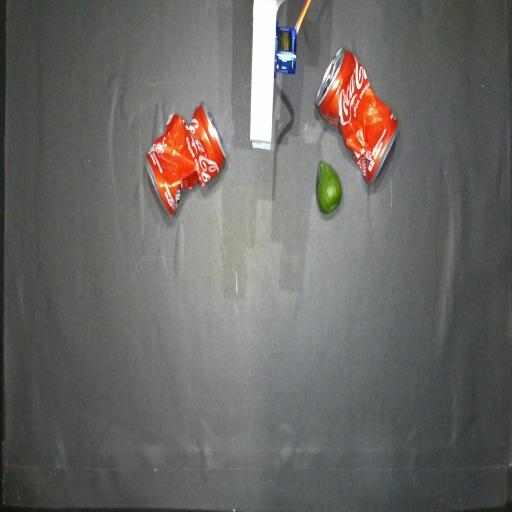higo: (316, 161, 342, 214)
lata_defectuoso: (315, 48, 398, 183), (146, 103, 226, 214)
